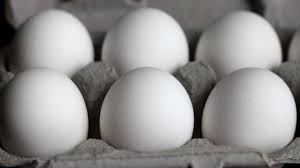eggs: (206, 72, 292, 155), (10, 64, 90, 150), (107, 68, 185, 148), (200, 9, 281, 85), (18, 8, 93, 71), (110, 5, 188, 64)
